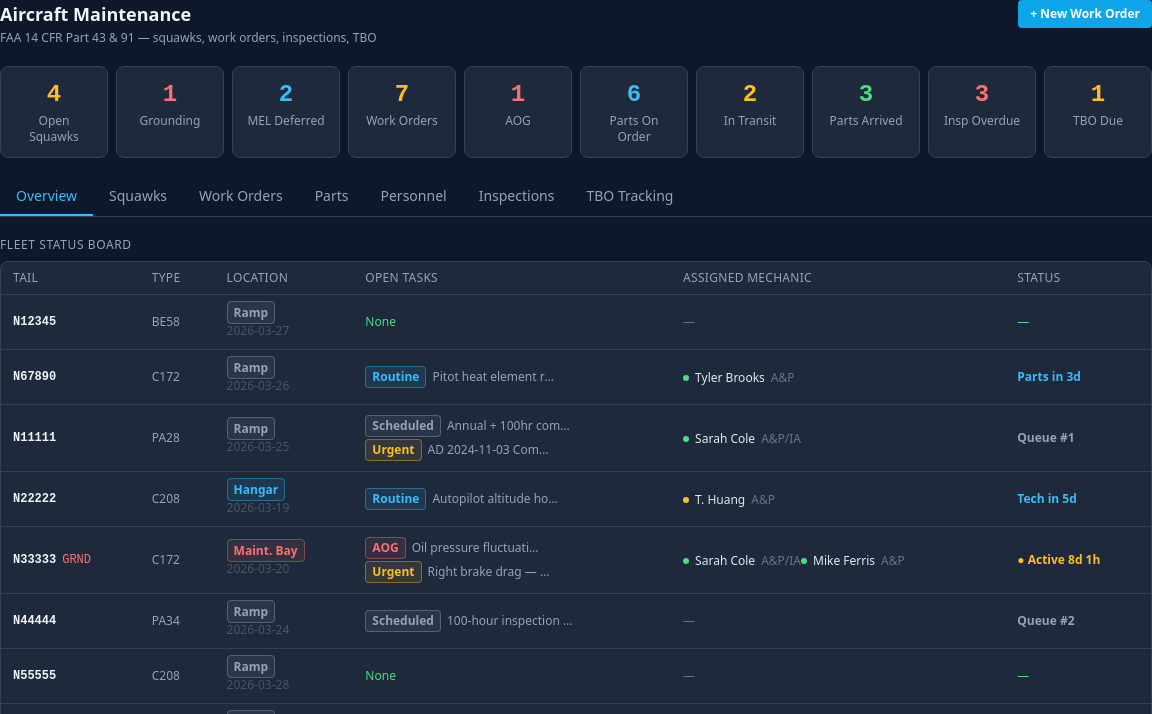
Test: <Maintenance /> Work Orders — parts + location + hold › shows hold reason banner for parts_hold WO
The image size is (1152, 714).
Click the tab "Work Orders" at (241, 197), box [183,178,299,216]
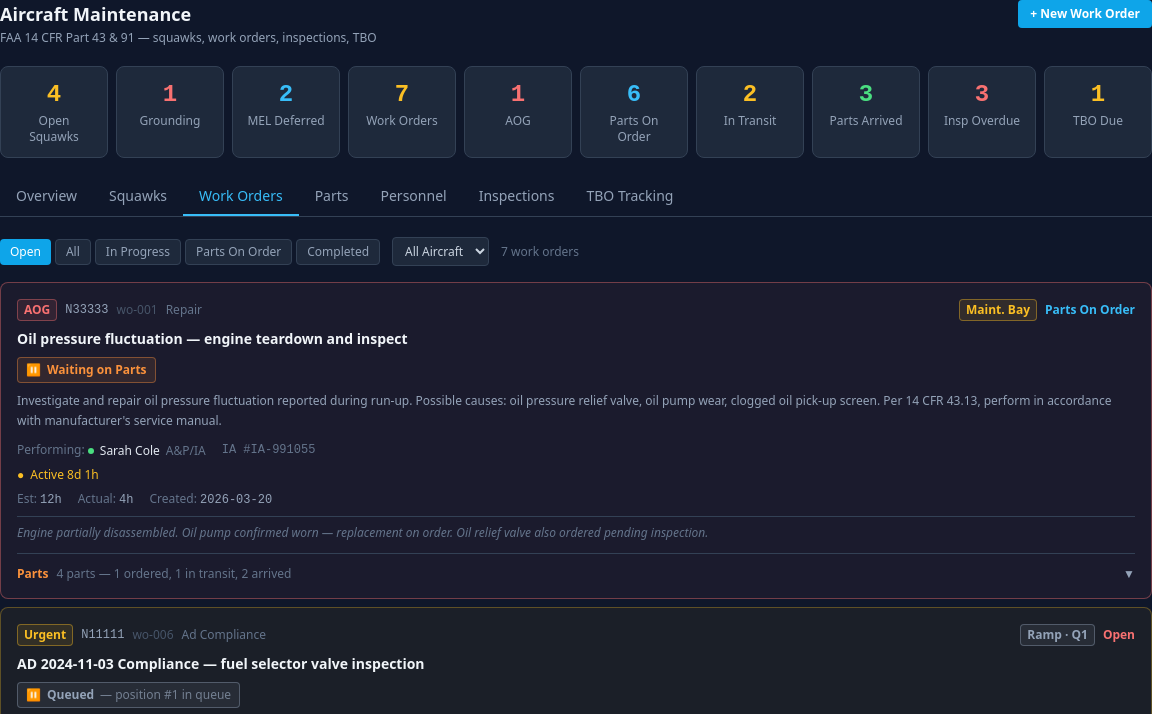
Expected: the text "Waiting on Parts" is shown, [47,362,147,378]
